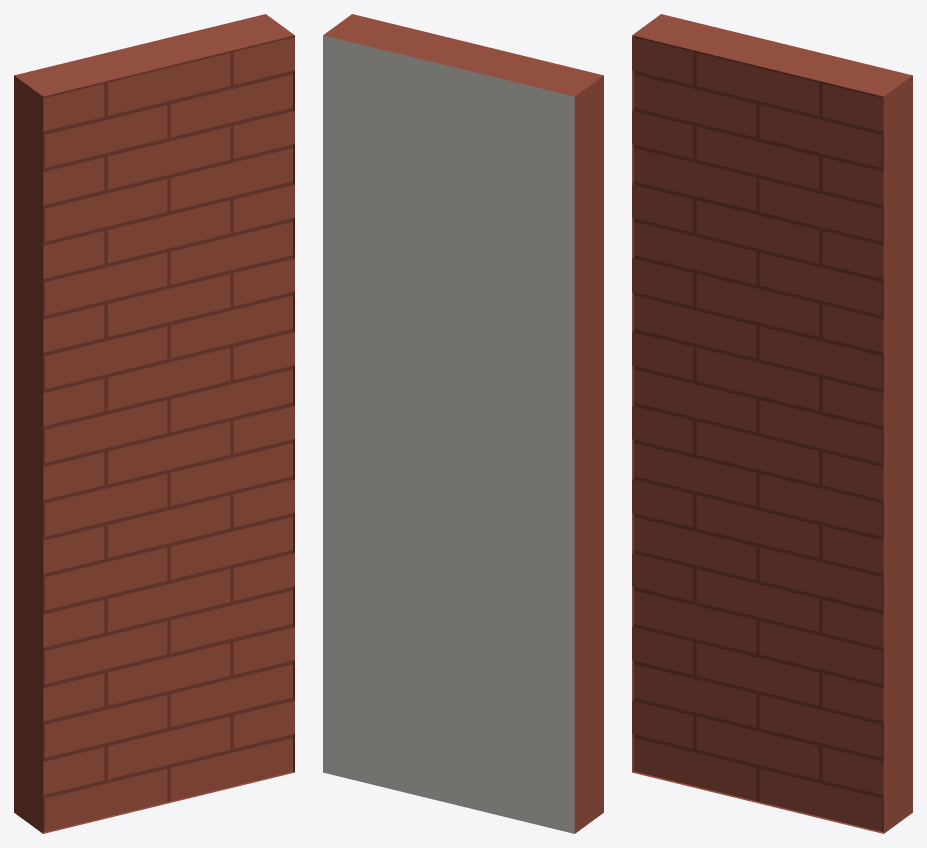
File: SC_Bld_Villa_Wall_Brick_1m.gltf
3 views of the same model, side by side, from view 1: azimuth 30°, elevation 25°; view 2: azimuth 150°, elevation 25°; view 3: azimuth 330°, elevation 25° (orthographic).
Parts seen in each view (by area): view 1: SC_Bld_Villa_Wall_Brick_1m; view 2: SC_Bld_Villa_Wall_Brick_1m; view 3: SC_Bld_Villa_Wall_Brick_1m.
Part boxes in pixels (left/top/right/bottom): SC_Bld_Villa_Wall_Brick_1m: left=14, top=14, right=294, bottom=833; SC_Bld_Villa_Wall_Brick_1m: left=323, top=14, right=603, bottom=833; SC_Bld_Villa_Wall_Brick_1m: left=632, top=14, right=912, bottom=833.
Size of the model in its own units: 1 by 2.8 by 0.2.
1 material, 1 textured.
